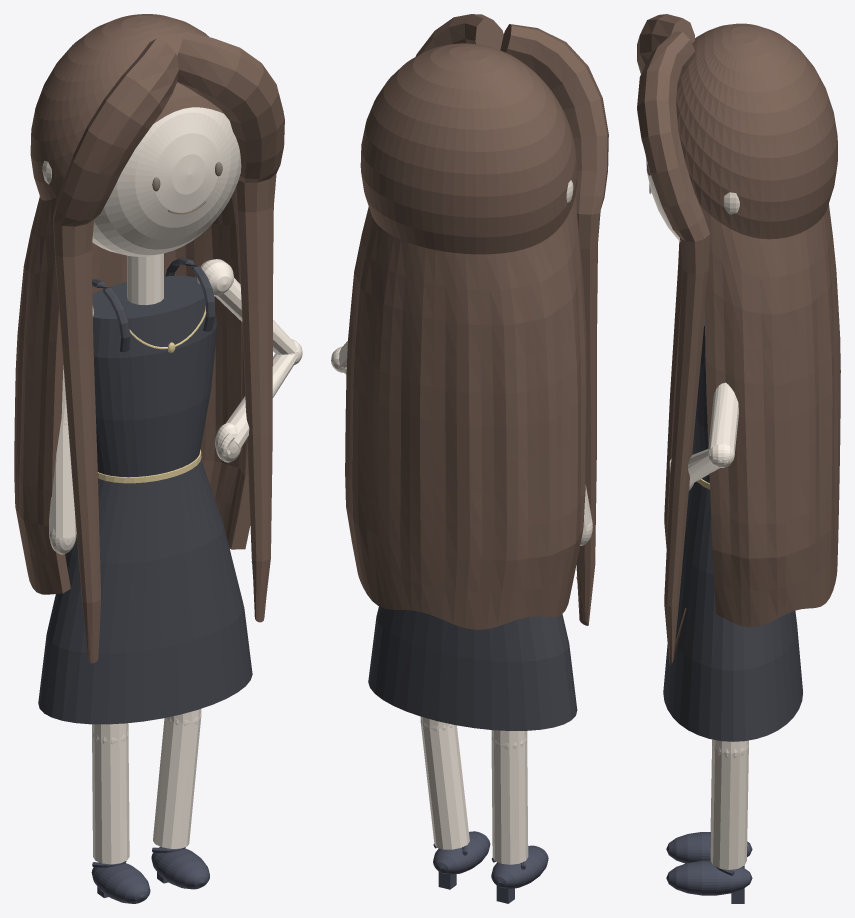
File: 08_fashion_model.glb
3 renders of one model, left to right at view 1: azimuth 30°, elevation 25°; view 2: azimuth 150°, elevation 25°; view 3: azimuth 270°, elevation 25°, orthographic. The views are drawn at different scales.
Visible parts, largest first — view 1: brown, blackdress, skin, pump, gold; view 2: brown, blackdress, skin, pump; view 3: brown, blackdress, skin, pump.
Boxes of the visible parts, left/top/right/bottom form: brown: left=14, top=14, right=284, bottom=663; blackdress: left=38, top=257, right=252, bottom=724; skin: left=42, top=107, right=302, bottom=864; pump: left=91, top=846, right=209, bottom=903; gold: left=98, top=305, right=206, bottom=483; brown: left=345, top=14, right=608, bottom=629; blackdress: left=368, top=606, right=577, bottom=730; skin: left=331, top=180, right=592, bottom=864; pump: left=433, top=831, right=548, bottom=903; brown: left=637, top=14, right=840, bottom=664; blackdress: left=663, top=317, right=802, bottom=741; skin: left=645, top=156, right=748, bottom=869; pump: left=666, top=832, right=752, bottom=903.
Bounding box in the file's own units: 0.5295 × 1.67 × 0.3558.
